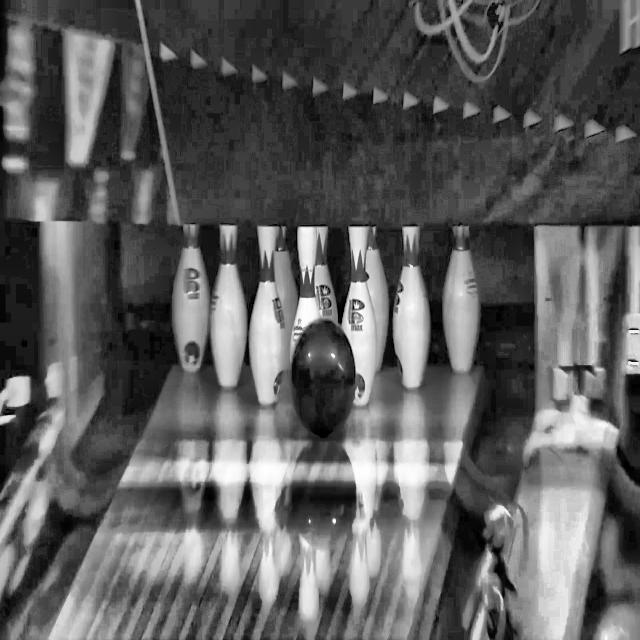bowling-ball: (291, 319, 355, 422)
bowling-pins: (249, 225, 285, 404), (342, 226, 377, 405), (393, 226, 431, 388), (210, 224, 247, 387), (443, 225, 480, 372), (173, 223, 209, 371), (290, 226, 320, 363), (274, 225, 298, 369), (366, 226, 389, 371), (314, 226, 338, 323)
